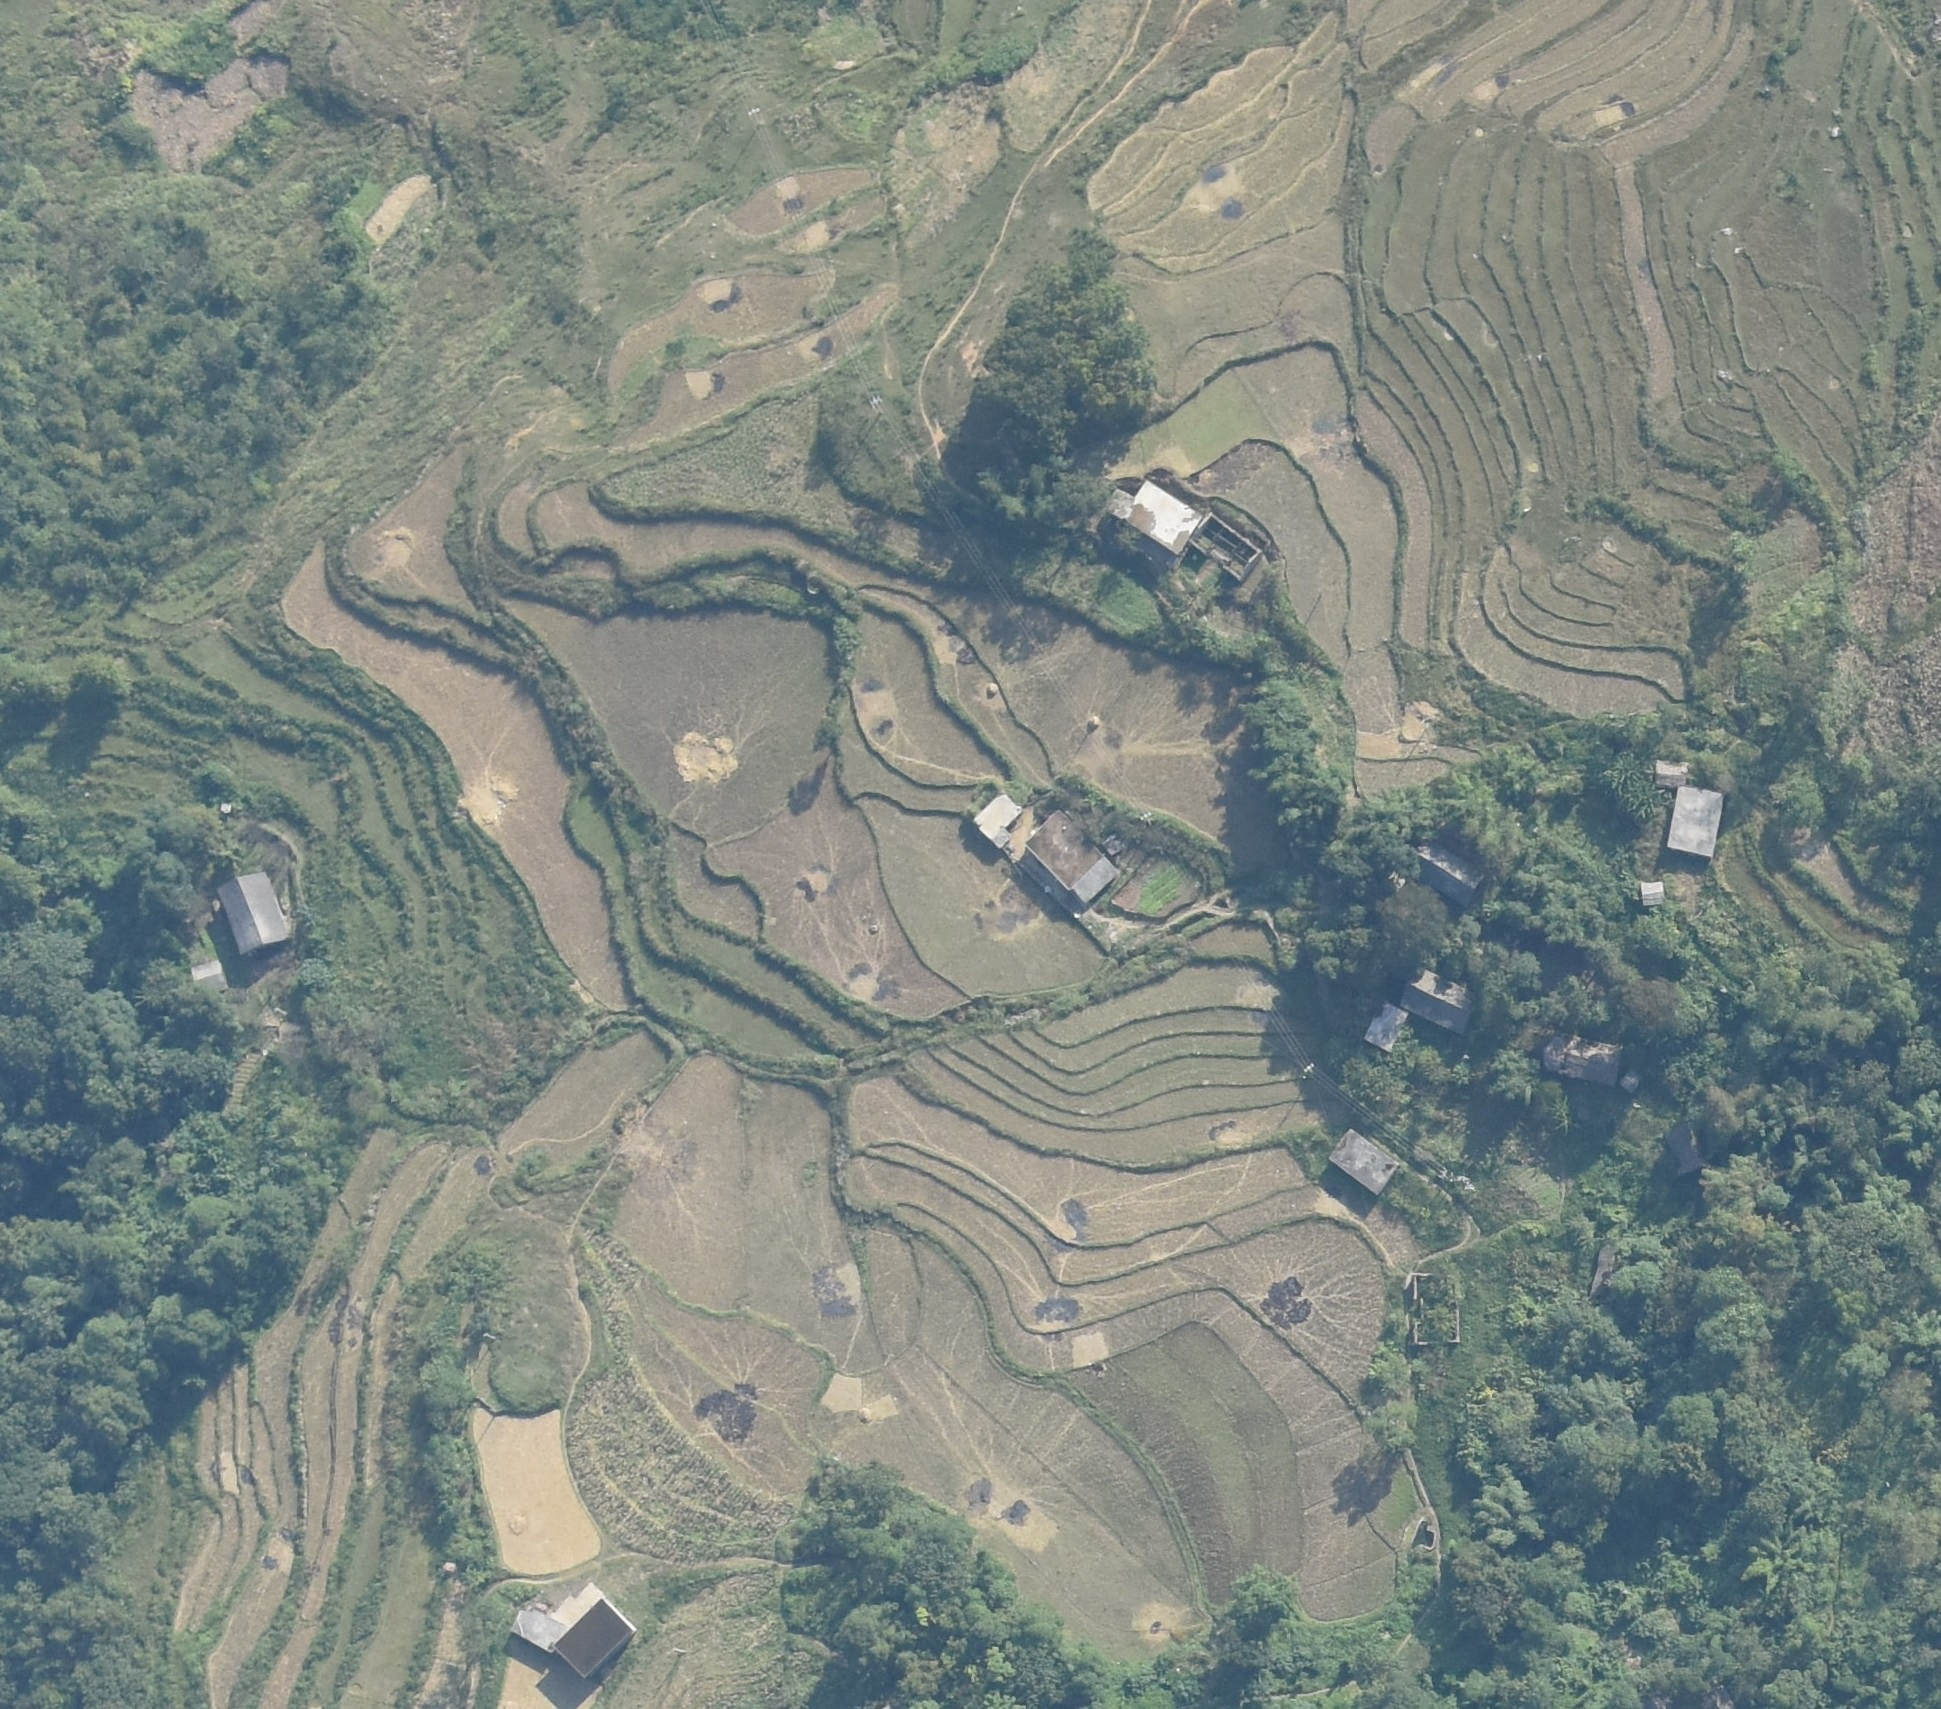building: (1025, 807, 1120, 904), (1109, 468, 1200, 558), (558, 1593, 635, 1682), (213, 871, 293, 953), (1539, 1028, 1629, 1088), (1404, 838, 1483, 906), (1402, 969, 1476, 1035), (1326, 1127, 1396, 1196), (1666, 784, 1724, 858), (972, 790, 1021, 848), (1366, 998, 1409, 1055), (512, 1604, 558, 1654), (192, 962, 227, 999), (1654, 760, 1690, 791), (1640, 884, 1667, 908)
cable-tower: (1436, 1166, 1455, 1185), (1299, 1060, 1319, 1078), (868, 394, 884, 413), (744, 105, 764, 120), (1139, 811, 1154, 825)
